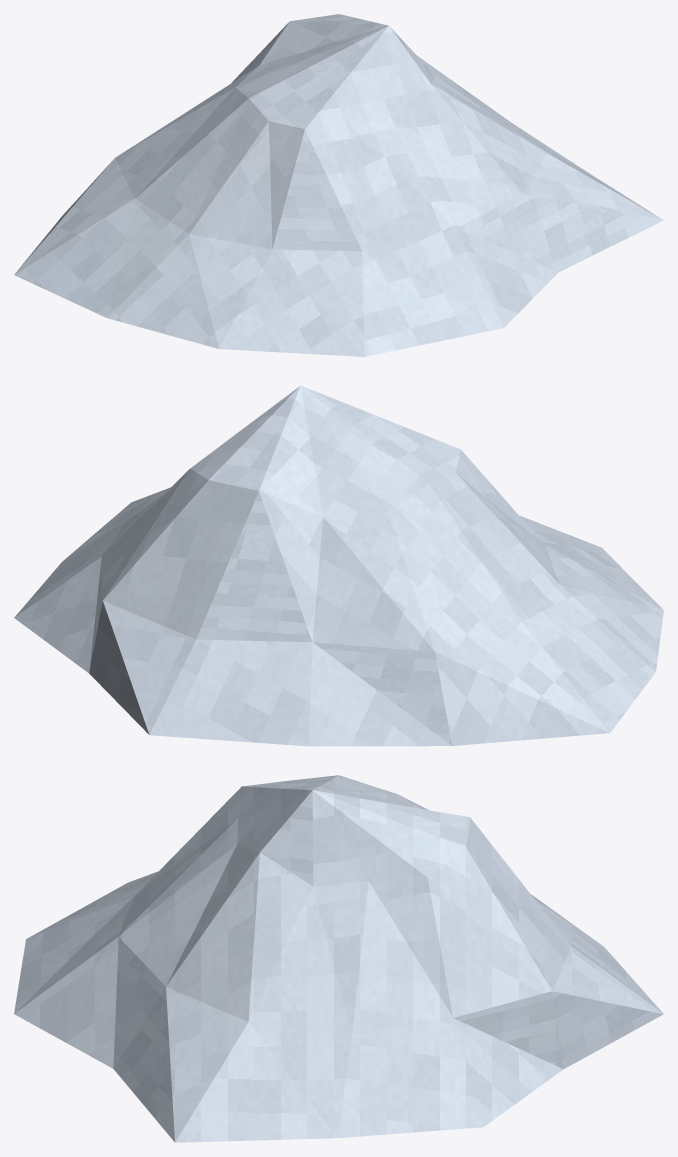
The model's file is mound_irregular.glb.
3 views of the same model, one above another, from view 1: azimuth 30°, elevation 25°; view 2: azimuth 150°, elevation 25°; view 3: azimuth 270°, elevation 25° (orthographic). The views are drawn at different scales.
Parts seen in each view (by area): view 1: mound_irregular; view 2: mound_irregular; view 3: mound_irregular.
Boxes of the visible parts, x1=… form: mound_irregular: x1=14, y1=14, x2=663, y2=356; mound_irregular: x1=14, y1=385, x2=663, y2=746; mound_irregular: x1=14, y1=775, x2=663, y2=1142.
Size of the model in its own units: 2.1 by 0.75 by 1.9.
Materials: 1 (1 with a texture image).
